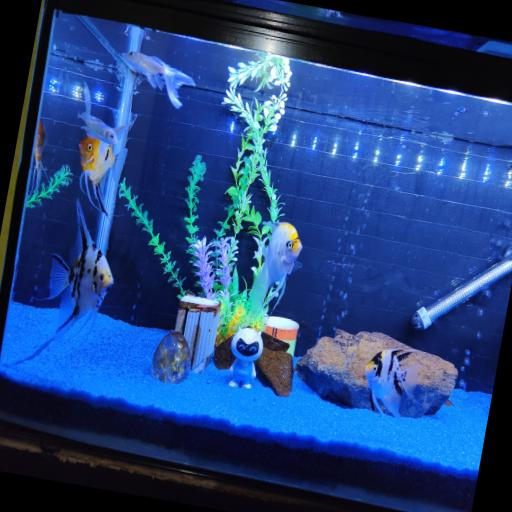Fish: (16, 201, 113, 364), (246, 223, 302, 324), (124, 52, 195, 108), (79, 136, 127, 214), (365, 350, 418, 417), (78, 83, 128, 146), (32, 121, 46, 191)
